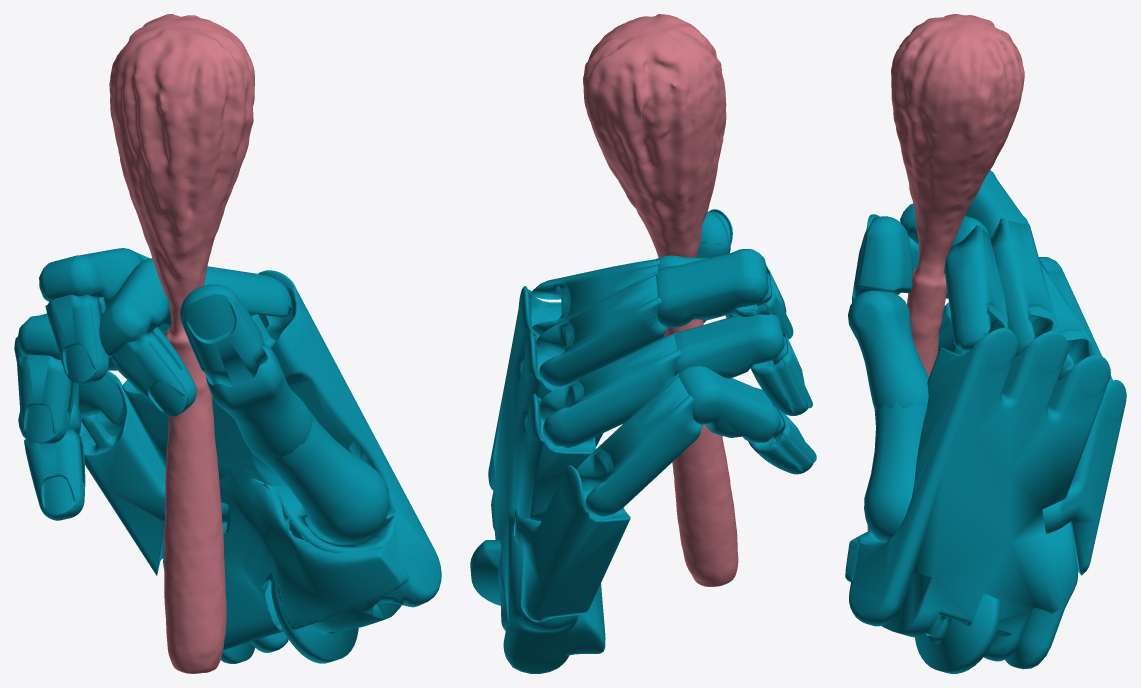
The picture shows the model from 3 angles, left to right: view 1: azimuth 30°, elevation 25°; view 2: azimuth 150°, elevation 25°; view 3: azimuth 270°, elevation 25°; orthographic projection. The views are drawn at different scales.
Parts seen in each view (by area): view 1: world; view 2: world; view 3: world.
Boxes of the visible parts, x1=… form: world: x1=14, y1=14, x2=441, y2=673; world: x1=470, y1=14, x2=816, y2=673; world: x1=845, y1=14, x2=1126, y2=673.
Size of the model in its own units: 0.133 by 0.2313 by 0.0973.
